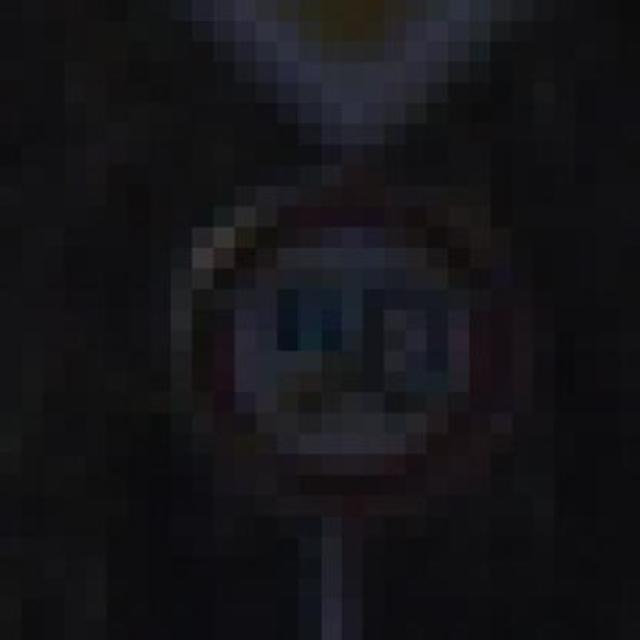50 mph speed limit: (149, 187, 534, 516)
